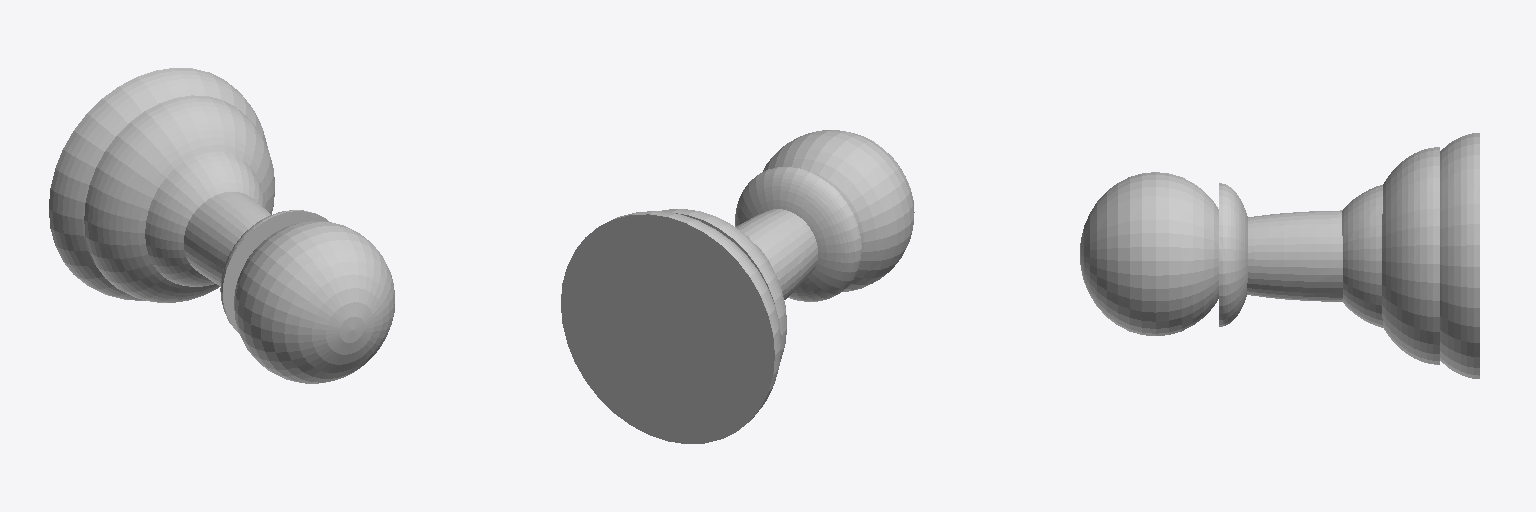
The model's file is pawn.obj.
3 renders of one model, left to right at view 1: azimuth 30°, elevation 25°; view 2: azimuth 150°, elevation 25°; view 3: azimuth 270°, elevation 25°, orthographic.
Visible parts, largest first — view 1: obj_0; view 2: obj_0; view 3: obj_0.
Boxes of the visible parts, x1=… form: obj_0: x1=49, y1=68, x2=394, y2=383; obj_0: x1=561, y1=130, x2=914, y2=443; obj_0: x1=1080, y1=133, x2=1479, y2=378.
Bounding box in the file's own units: 4.94 × 4.94 × 8.